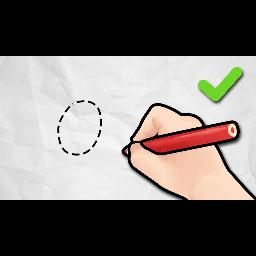o: (56, 96, 114, 168)
